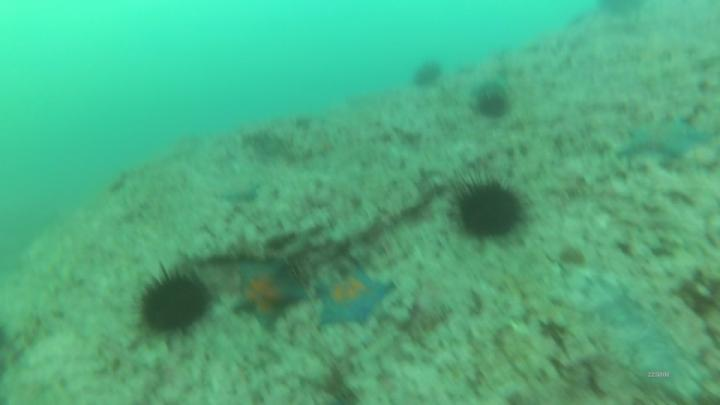echinus: (442, 172, 537, 245), (135, 265, 214, 341), (469, 90, 514, 122), (412, 59, 446, 90), (597, 1, 650, 20)
starfish: (314, 263, 398, 335), (230, 261, 308, 336), (612, 114, 717, 163), (219, 179, 262, 205)
